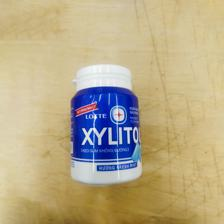Xylitol_blue: (68, 62, 144, 185)
